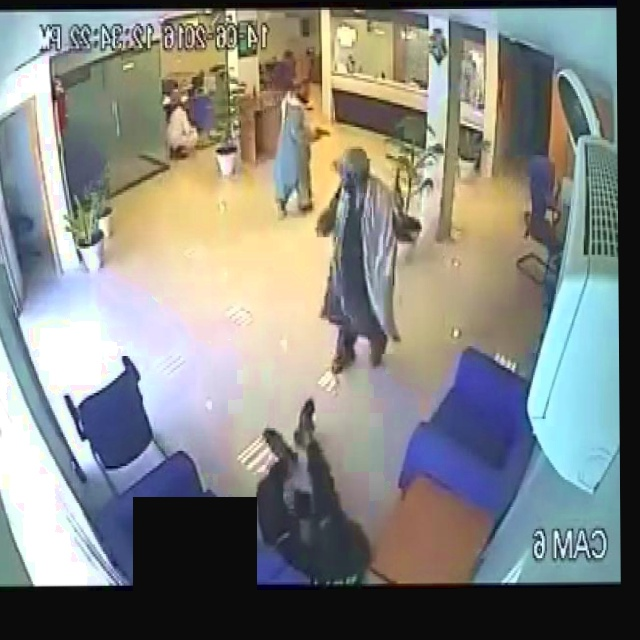gun: (391, 163, 407, 200), (314, 122, 333, 136)
